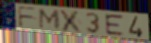3: (85, 12, 101, 34)
4: (129, 16, 144, 38)
E: (104, 13, 126, 36)
F: (17, 6, 39, 28)
M: (38, 8, 61, 31)
X: (59, 8, 85, 34)
